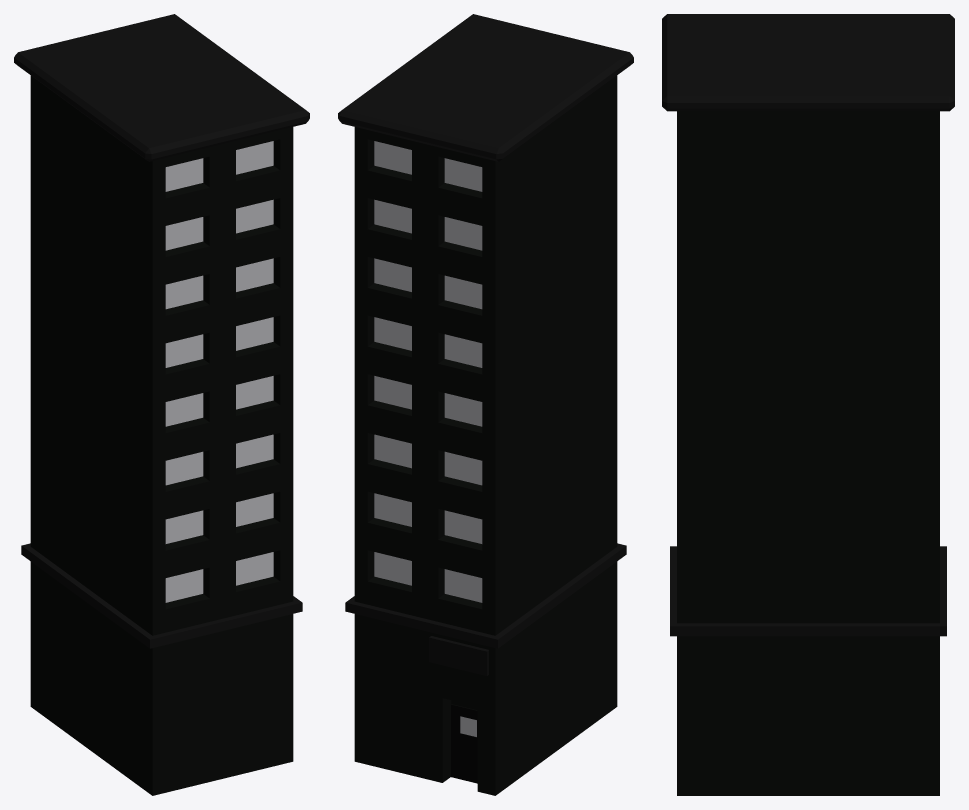
File: flatC.fbx
The picture shows the model from 3 angles, left to right: view 1: azimuth 30°, elevation 25°; view 2: azimuth 150°, elevation 25°; view 3: azimuth 270°, elevation 25°; orthographic projection. The views are drawn at different scales.
Visible parts, largest first — view 1: FlatC; view 2: FlatC; view 3: FlatC.
Boxes of the visible parts, x1,y1,x2,y2 form: FlatC: (14,14,309,795); FlatC: (338,14,633,795); FlatC: (662,14,954,795).
Bounding box in the file's own units: 402 × 1522 × 574.
